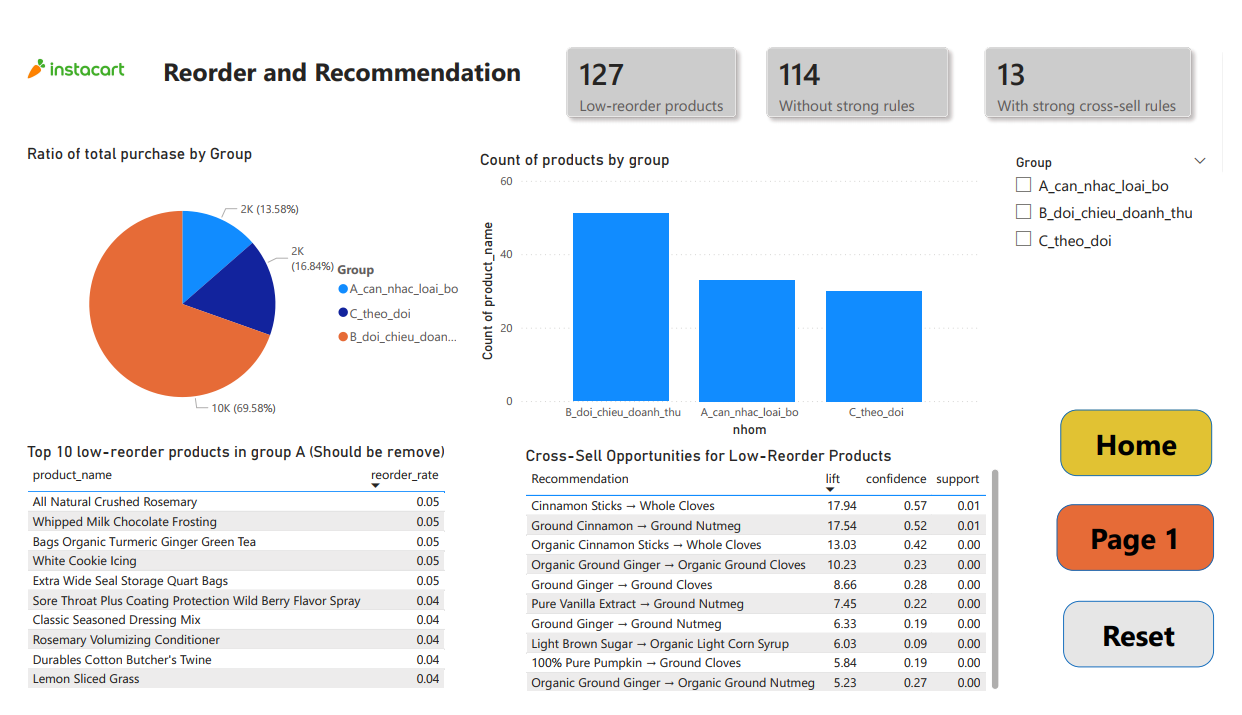

What the dashboard file says about the page in this screenshot:
{"tool":"powerbi","page":{"name":"Page 2","canvas":[1280,720],"ordinal":2},"visuals":[{"type":"textbox","box":[114.4,29.9,446.6,72.1],"z":0},{"type":"image","box":[0,0,114.4,102],"z":1000},{"type":"tableEx","title":"Cross-Sell Opportunities for Low-Reorder Products","fields":{"Values":["tops_q2.goi_y","tops_q2.lift","tops_q2.confidence","tops_q2.support"]},"box":[532.4,454,515,266.2],"z":2000},{"type":"tableEx","title":"Top 10 low-reorder products in group A (Should be remove)","fields":{"Values":["top_10_A.product_name","top_10_A.reorder_rate"]},"box":[0,450.3,482.7,269.9],"z":3000},{"type":"pieChart","fields":{"Category":["base.nhom"],"Y":["Sum(base.total_purchase)"]},"box":[0,131.9,482.7,322.2],"z":4000},{"type":"clusteredColumnChart","title":"Count of products by group","fields":{"Category":["base.nhom"],"Y":["Count(base.product_name)"]},"box":[482.7,138.1,541.1,312.2],"z":5000},{"type":"slicer","fields":{"Values":["base.nhom"]},"box":[1047.4,138.1,227.6,139.3],"z":6000},{"type":"cardVisual","fields":{"Data":["base.Total_low_reordered_products"]},"box":[765,0,251.3,131.9],"z":7000},{"type":"cardVisual","fields":{"Data":["low_df.total_low"]},"box":[552.3,0,237.6,131.9],"z":8000},{"type":"cardVisual","fields":{"Data":["strong.total_strong"]},"box":[997.7,0,277.4,131.9],"z":9000},{"type":"shape","title":"Customer segments and cross-sell","box":[1103.4,415.5,161.7,70.9],"z":10000},{"type":"shape","title":"Customer segments and cross-sell","box":[1103.4,516.2,167.9,70.9],"z":11000},{"type":"shape","title":"Customer segments and cross-sell","box":[1103.4,617,161.7,70.9],"z":12000}]}

Visuals, with their boxes in screenshot pixels (x1, y1, x2, y2), scaled from the page's 1280x720 canvas onto the 1242x715 screenshot:
textbox: x1=111, y1=30, x2=544, y2=101
image: x1=0, y1=0, x2=111, y2=101
"Cross-Sell Opportunities for Low-Reorder Products" tableEx: x1=517, y1=451, x2=1016, y2=714
"Top 10 low-reorder products in group A (Should be remove)" tableEx: x1=0, y1=447, x2=468, y2=714
pieChart - base.nhom x Sum(base.total_purchase): x1=0, y1=131, x2=468, y2=451
"Count of products by group" clusteredColumnChart: x1=468, y1=137, x2=993, y2=447
slicer - base.nhom: x1=1016, y1=137, x2=1237, y2=275
cardVisual - base.Total_low_reordered_products: x1=742, y1=0, x2=986, y2=131
cardVisual - low_df.total_low: x1=536, y1=0, x2=766, y2=131
cardVisual - strong.total_strong: x1=968, y1=0, x2=1237, y2=131
"Customer segments and cross-sell" shape: x1=1071, y1=413, x2=1228, y2=483
"Customer segments and cross-sell" shape: x1=1071, y1=513, x2=1234, y2=583
"Customer segments and cross-sell" shape: x1=1071, y1=613, x2=1228, y2=683
